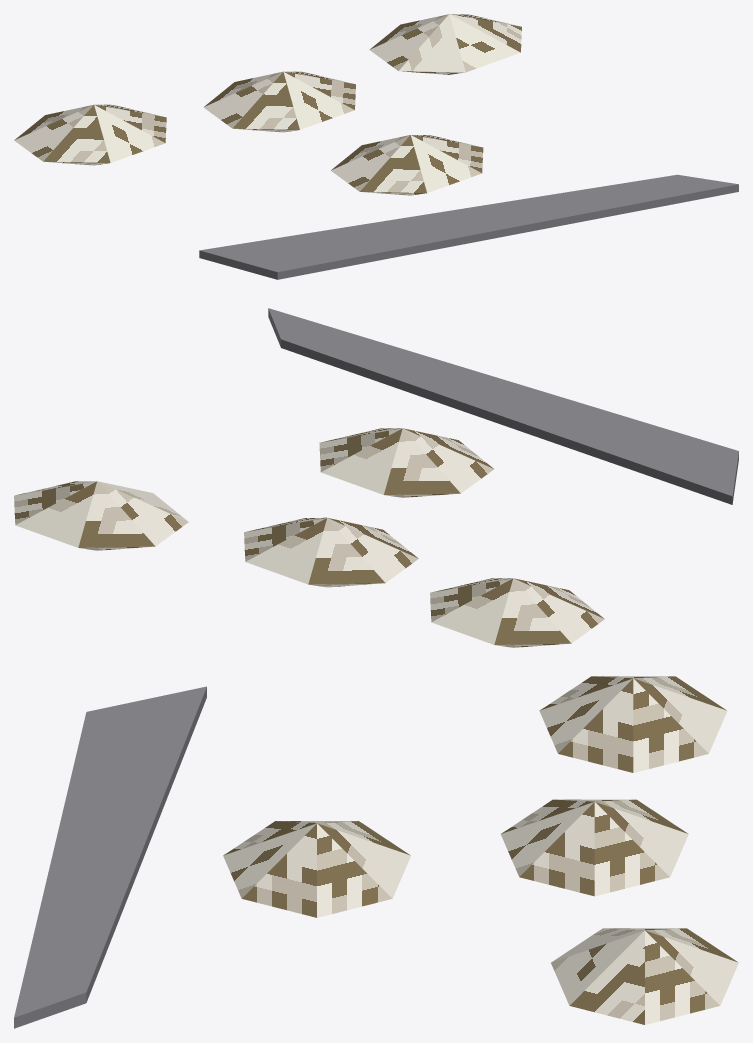
Rendered from feces_bird.glb.
3 views of the same model, one above another, from view 1: azimuth 30°, elevation 25°; view 2: azimuth 150°, elevation 25°; view 3: azimuth 270°, elevation 25° (orthographic). The views are drawn at different scales.
Parts seen in each view (by area): view 1: block_feather, block_drop3, block_drop0, block_drop1, block_drop2; view 2: block_feather, block_drop2, block_drop3, block_drop1, block_drop0; view 3: block_feather, block_drop0, block_drop1, block_drop3, block_drop2.
Boxes of the visible parts, box(x1,y1,x2,y2) form: block_feather: box(199, 174, 738, 279); block_drop3: box(14, 104, 166, 165); block_drop0: box(203, 71, 355, 132); block_drop1: box(369, 14, 521, 74); block_drop2: box(331, 135, 483, 195); block_feather: box(268, 308, 738, 504); block_drop2: box(319, 428, 493, 497); block_drop3: box(430, 578, 604, 647); block_drop1: box(14, 481, 188, 550); block_drop0: box(244, 517, 418, 587); block_feather: box(14, 686, 206, 1028); block_drop0: box(500, 799, 688, 896); block_drop1: box(551, 928, 738, 1024); block_drop3: box(539, 676, 727, 772); block_drop2: box(223, 821, 410, 917).
Bounding box in the file's own units: 0.0684 × 0.008 × 0.0601.
Materials: 1 (1 with a texture image).
